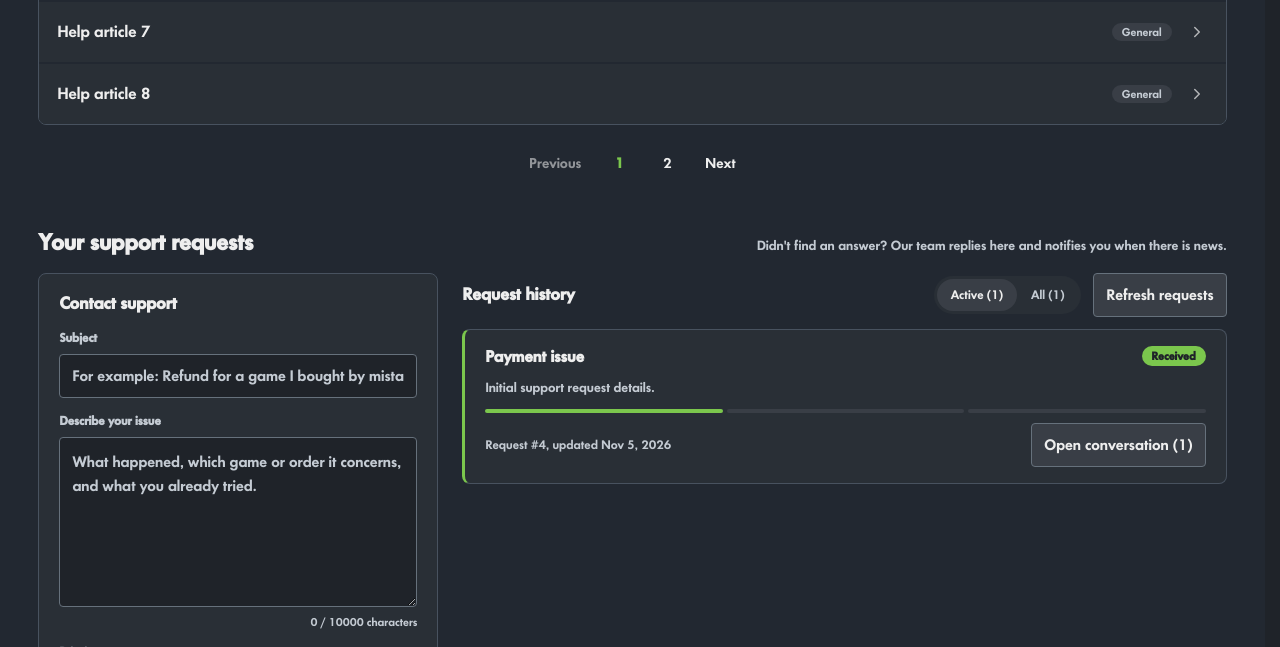
it: preserves ticket drafts when the backend rejects a request
The width and height of the screenshot is (1280, 647).
(page scrolled)
Type "Please help" into the field labelled "Subject". click: (238, 376)
box: [59,354,417,398]
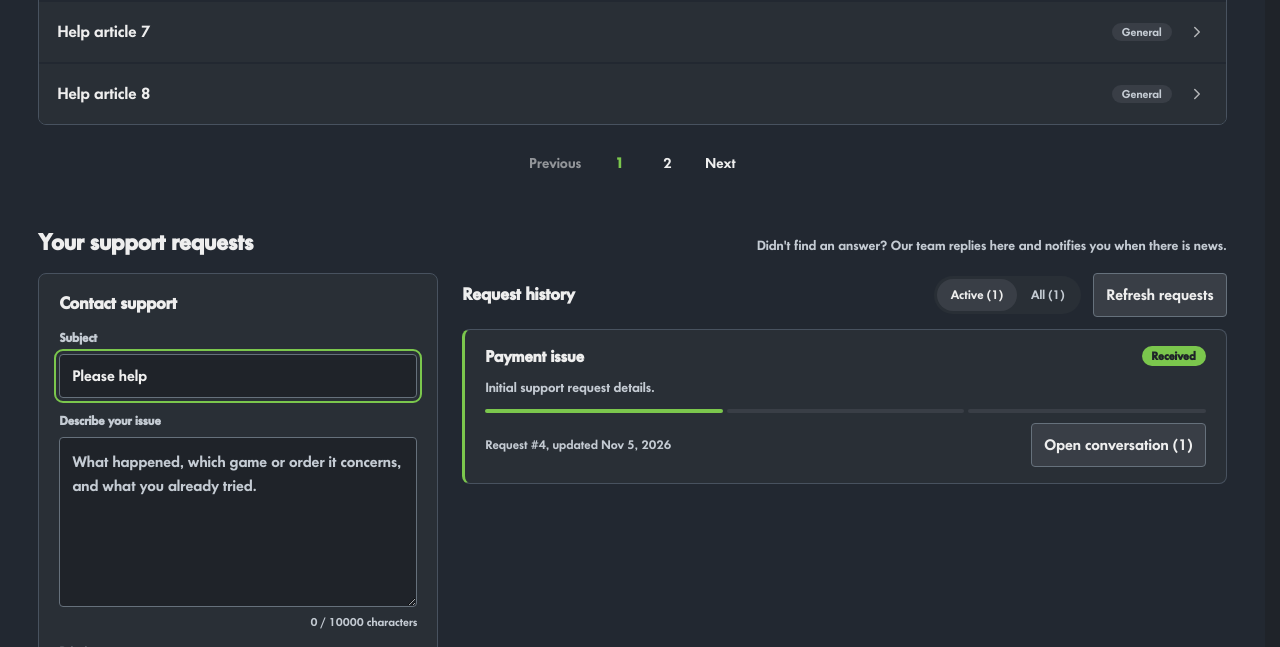
Type "The order is missing." into the text box labelled "Describe your issue". click: (238, 522)
box: [59,437,417,607]
(page scrolled)
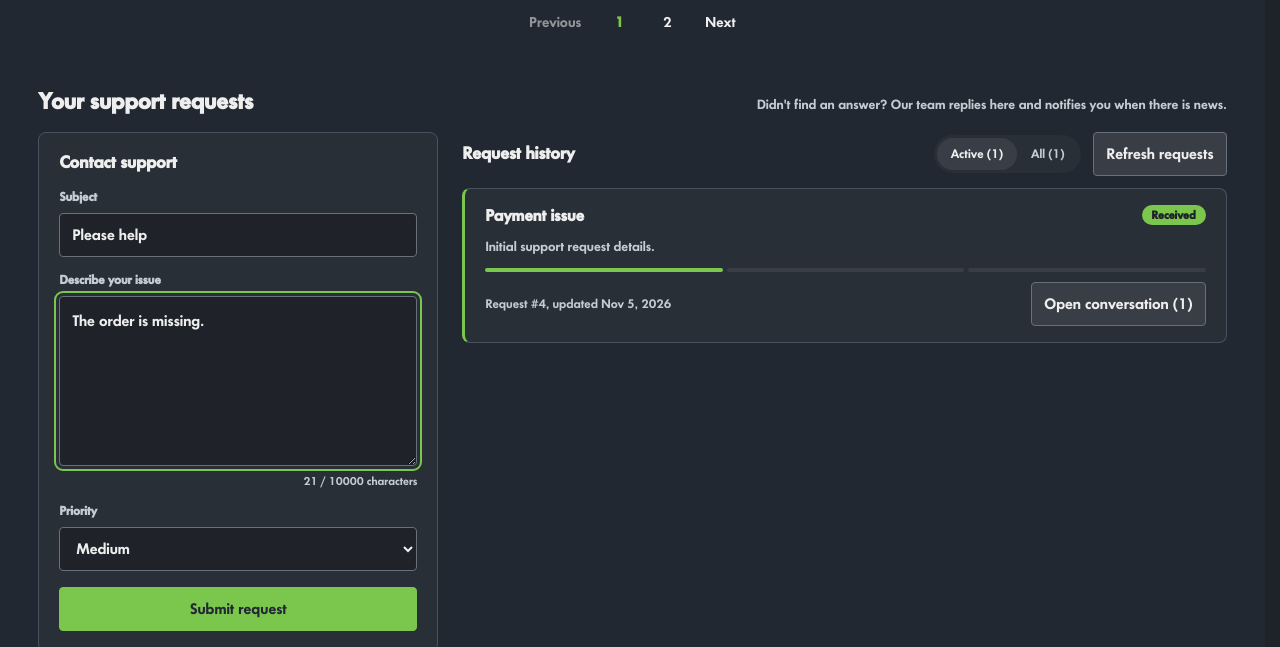
Click the button "Submit request". click: (238, 609)
box: [59,587,417,631]
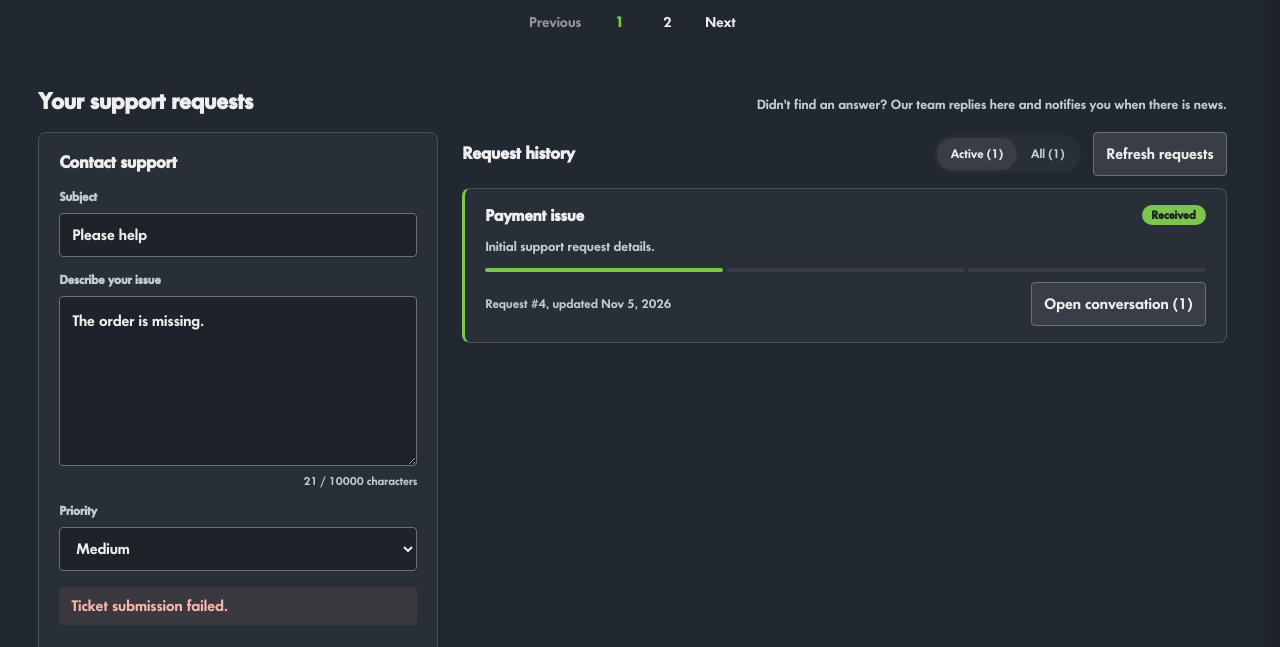
Now the message reads "Ticket submission failed.", box [71,598,228,614]
